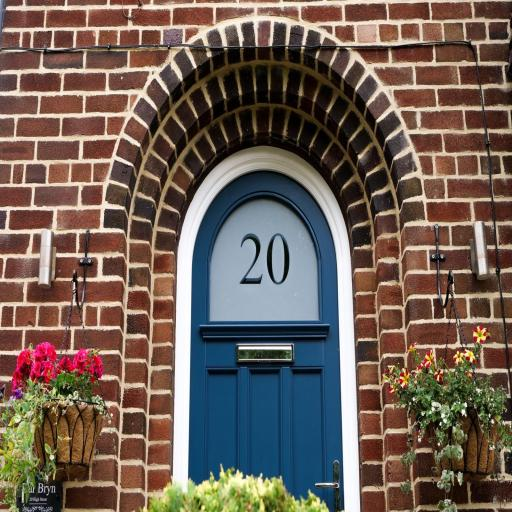door: (172, 145, 362, 512)
